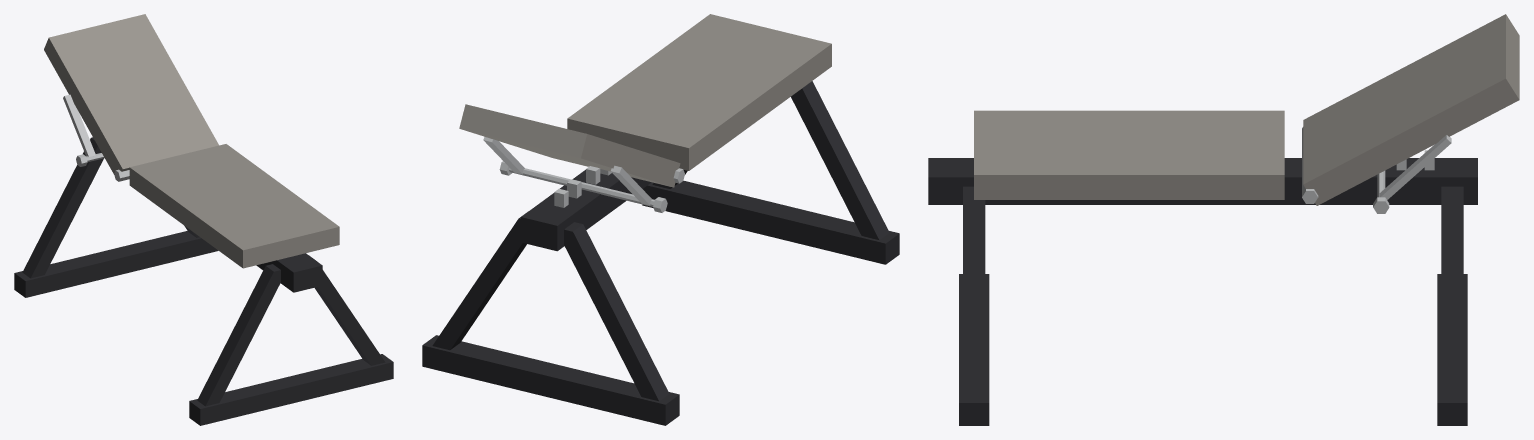
Rendered from FN_Bench_Gym.glb.
3 views of the same model, side by side, from view 1: azimuth 30°, elevation 25°; view 2: azimuth 150°, elevation 25°; view 3: azimuth 270°, elevation 25° (orthographic). The views are drawn at different scales.
Visible parts, largest first — view 1: FN_Bench_Gym; view 2: FN_Bench_Gym; view 3: FN_Bench_Gym.
Boxes of the visible parts, x1,y1,x2,y2 form: FN_Bench_Gym: (14,14,393,425); FN_Bench_Gym: (422,14,899,425); FN_Bench_Gym: (928,14,1519,425).
Size of the model in its own units: 0.6 by 0.6834 by 1.16.
1 material, 1 textured.
